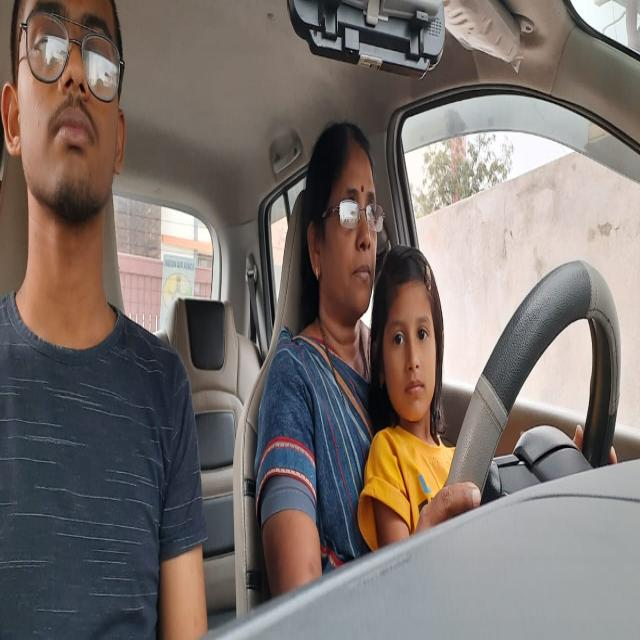child: (376, 258, 444, 432)
person: (6, 13, 131, 217), (304, 135, 381, 322)
